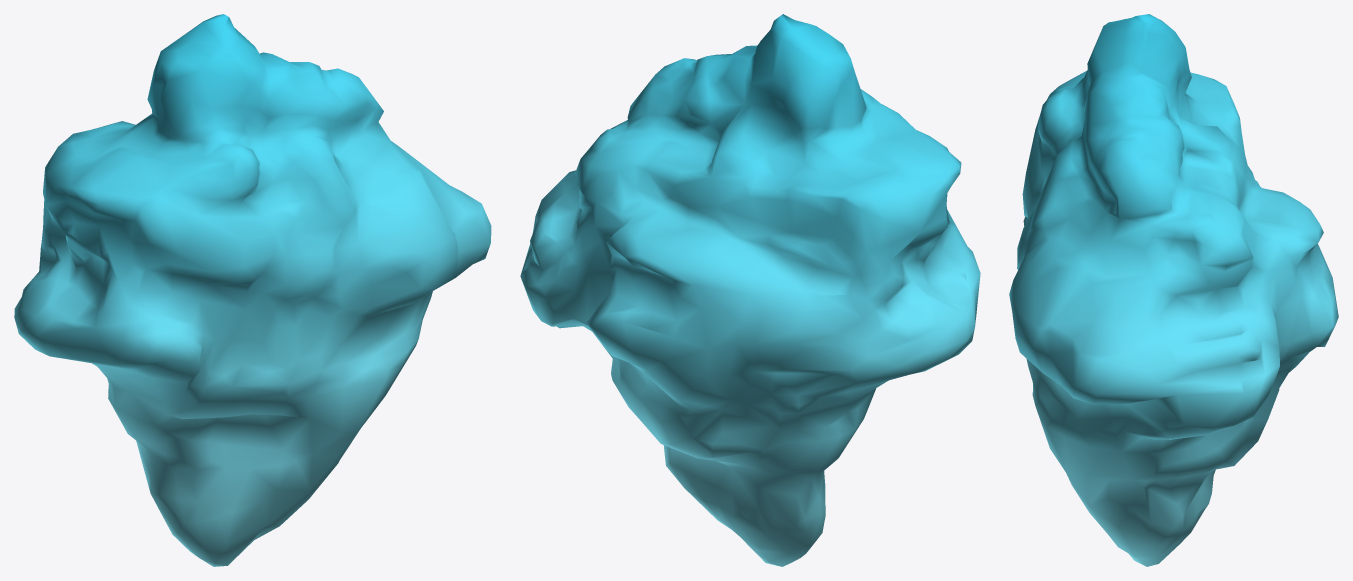
File: iceberg_007.fbx
3 renders of one model, left to right at view 1: azimuth 30°, elevation 25°; view 2: azimuth 150°, elevation 25°; view 3: azimuth 270°, elevation 25°, orthographic.
Visible parts, largest first — view 1: iceberg_007; view 2: iceberg_007; view 3: iceberg_007.
Part boxes in pixels (x1=…): iceberg_007: x1=14, y1=14, x2=491, y2=566; iceberg_007: x1=520, y1=14, x2=980, y2=566; iceberg_007: x1=1009, y1=14, x2=1338, y2=566.
Size of the model in its own units: 2007 by 1308 by 2409.
